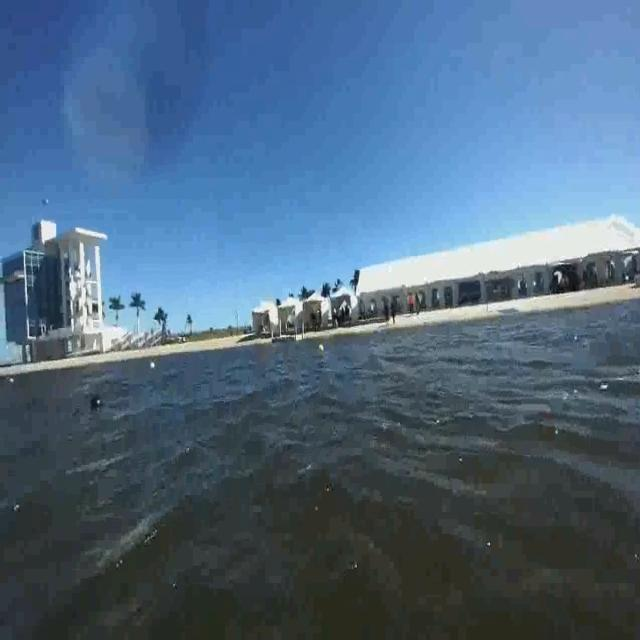black-buoy: (88, 392, 104, 412)
